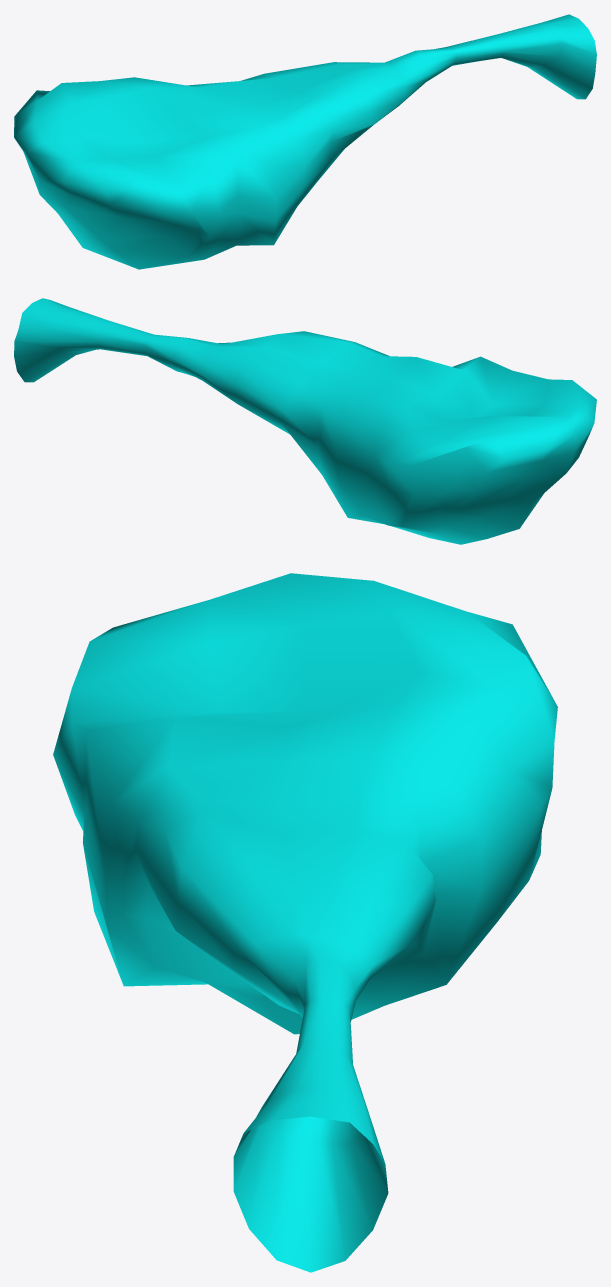
File: BigWallAttachment01_mesh.fbx
3 views of the same model, one above another, from view 1: azimuth 30°, elevation 25°; view 2: azimuth 150°, elevation 25°; view 3: azimuth 270°, elevation 25° (orthographic). The views are drawn at different scales.
Parts seen in each view (by area): view 1: Big_wallattachment01_model; view 2: Big_wallattachment01_model; view 3: Big_wallattachment01_model.
Part boxes in pixels (x1,y1,x2,y2): Big_wallattachment01_model: (14,14,596,269); Big_wallattachment01_model: (14,298,596,544); Big_wallattachment01_model: (53,573,557,1272).
Bounding box in the file's own units: 31.5 × 8.51 × 12.67.
